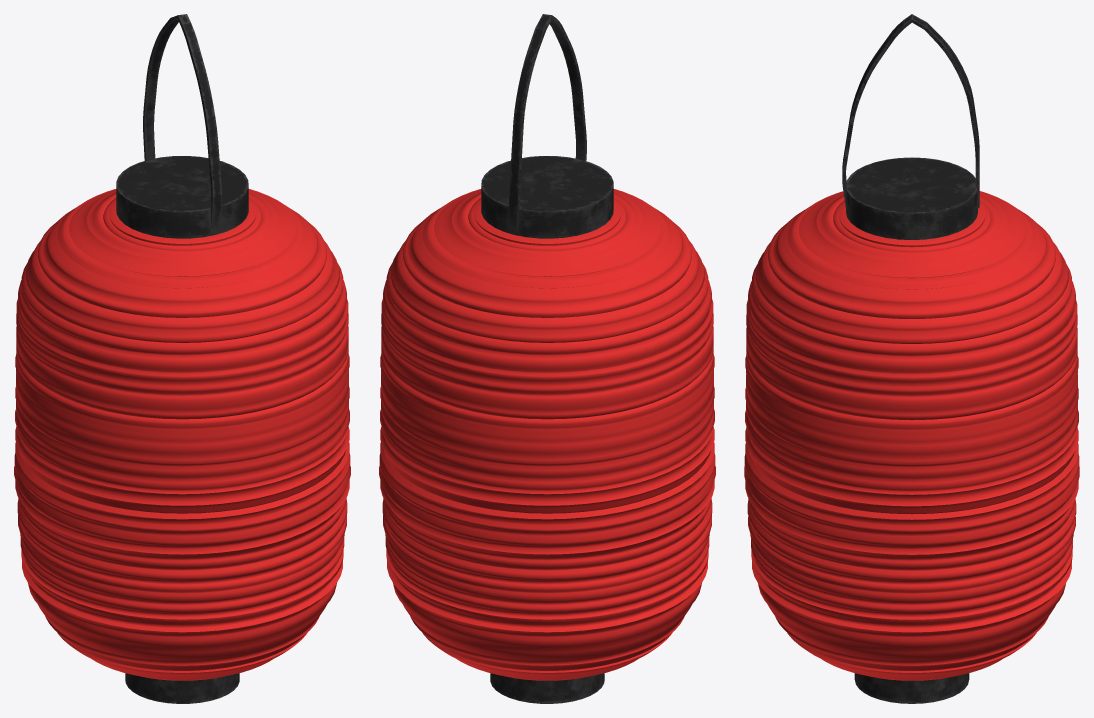
The model's file is Luz.fbx.
3 renders of one model, left to right at view 1: azimuth 30°, elevation 25°; view 2: azimuth 150°, elevation 25°; view 3: azimuth 270°, elevation 25°, orthographic.
Visible parts, largest first — view 1: Chochin; view 2: Chochin; view 3: Chochin.
Boxes of the visible parts, x1,y1,x2,y2 form: Chochin: (14, 14, 350, 703); Chochin: (379, 14, 715, 703); Chochin: (744, 14, 1079, 703).
Size of the model in its own units: 0.623 by 1.36 by 0.6219.
1 material, 1 textured.
